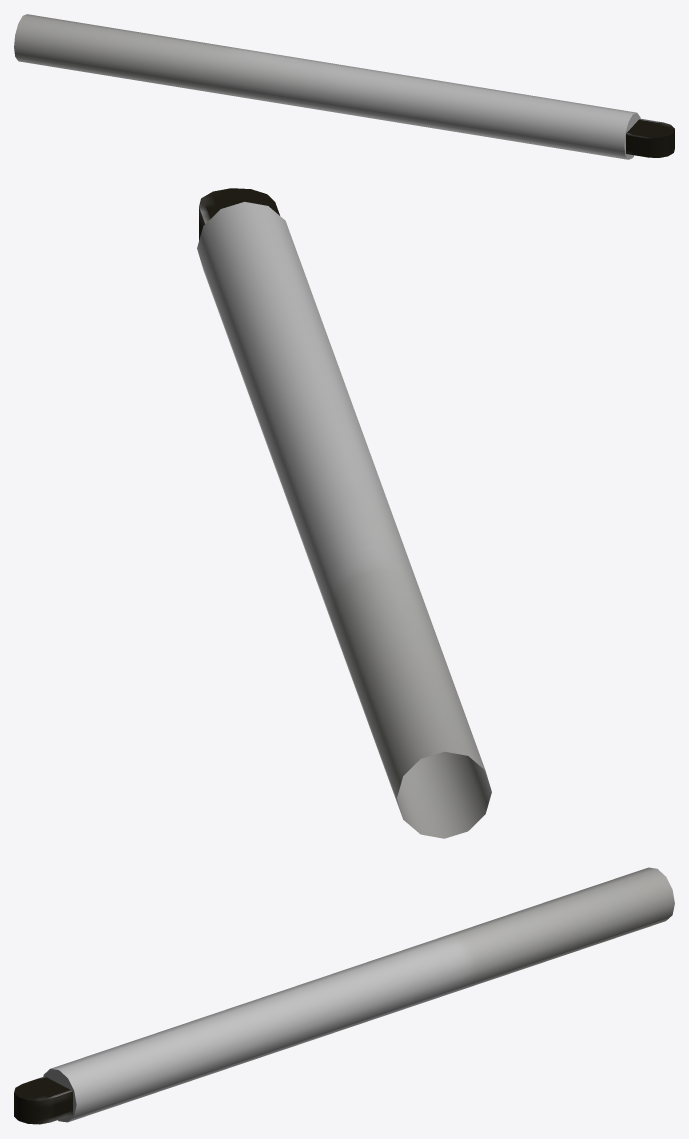
File: boom_cyl_rod.obj
3 views of the same model, one above another, from view 1: azimuth 30°, elevation 25°; view 2: azimuth 150°, elevation 25°; view 3: azimuth 270°, elevation 25° (orthographic). The views are drawn at different scales.
Visible parts, largest first — view 1: Piston.007; view 2: Piston.007; view 3: Piston.007.
Part boxes in pixels (x1,y1,x2,y2): Piston.007: [14, 14, 674, 159]; Piston.007: [197, 188, 491, 838]; Piston.007: [14, 867, 674, 1124].
Size of the model in its own units: 0.5179 by 0.0557 by 0.6301.
1 material, 1 textured.
